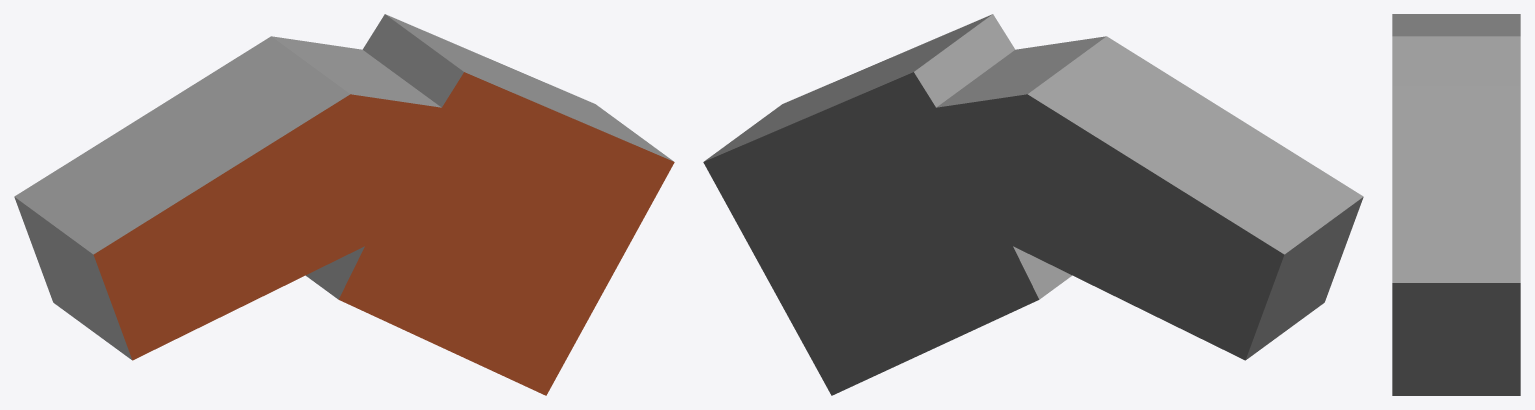
The model's file is construction_4428_assumed_A_Casa_h6m.obj.
3 views of the same model, side by side, from view 1: azimuth 30°, elevation 25°; view 2: azimuth 150°, elevation 25°; view 3: azimuth 270°, elevation 25° (orthographic). The views are drawn at different scales.
Parts seen in each view (by area): view 1: construction_4428_assumed_A_Casa; view 2: construction_4428_assumed_A_Casa; view 3: construction_4428_assumed_A_Casa.
Boxes of the visible parts, x1,y1,x2,y2 form: construction_4428_assumed_A_Casa: (14, 14, 674, 395); construction_4428_assumed_A_Casa: (703, 14, 1363, 395); construction_4428_assumed_A_Casa: (1392, 14, 1520, 395).
Bounding box in the file's own units: 25.4 × 14.59 × 6.
